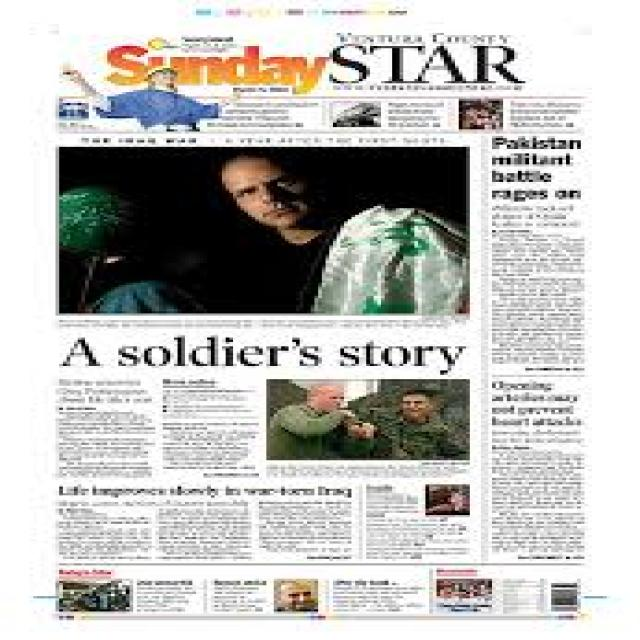paper: (16, 0, 615, 607)
